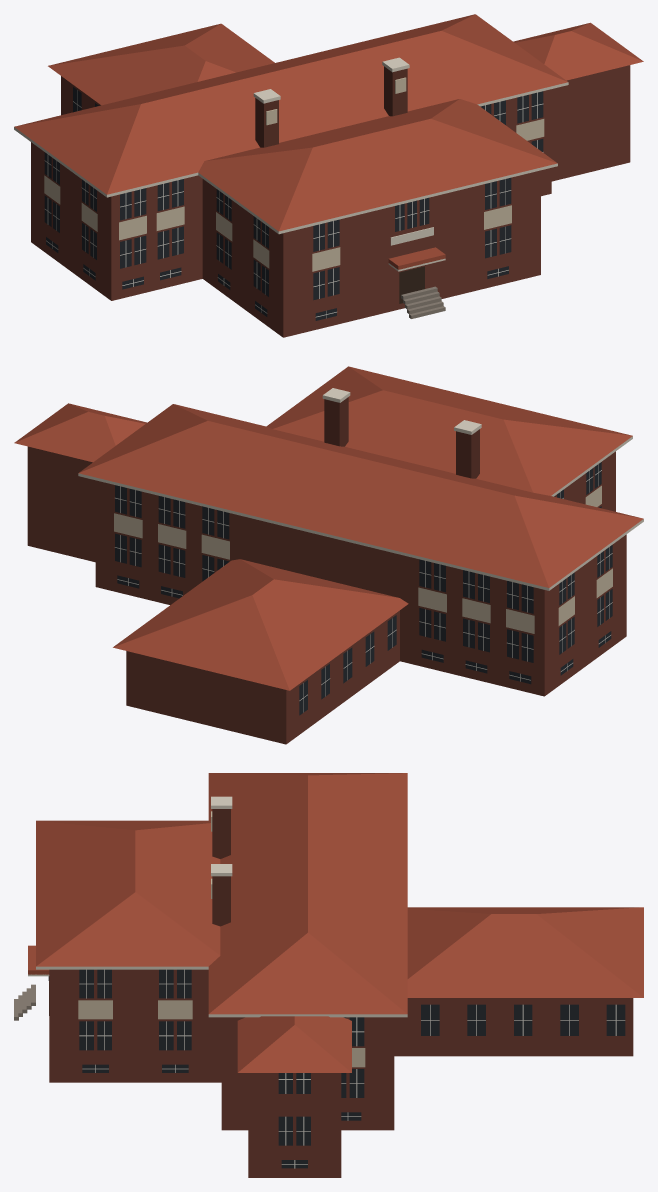
The model's file is woodruff-school-1913.glb.
The picture shows the model from 3 angles, top to bottom: view 1: azimuth 30°, elevation 25°; view 2: azimuth 150°, elevation 25°; view 3: azimuth 270°, elevation 25°; orthographic projection. The views are drawn at different scales.
Visible parts, largest first — view 1: woodruff_tile, woodruff_brick, woodruff_glass, woodruff_panel, woodruff_trim, woodruff_sash, woodruff_brick2, woodruff_base, woodruff_door; view 2: woodruff_tile, woodruff_brick, woodruff_glass, woodruff_panel, woodruff_trim, woodruff_brick2, woodruff_sash; view 3: woodruff_tile, woodruff_brick, woodruff_glass, woodruff_trim, woodruff_brick2, woodruff_panel, woodruff_sash.
Part boxes in pixels (<box>): woodruff_tile: <box>14,14,643,269</box>; woodruff_brick: <box>31,65,630,337</box>; woodruff_glass: <box>44,87,543,320</box>; woodruff_panel: <box>44,77,544,271</box>; woodruff_trim: <box>14,57,568,271</box>; woodruff_sash: <box>44,90,543,318</box>; woodruff_brick2: <box>255,66,407,147</box>; woodruff_base: <box>401,286,445,318</box>; woodruff_door: <box>399,266,424,303</box>; woodruff_tile: <box>14,366,643,690</box>; woodruff_brick: <box>27,446,626,744</box>; woodruff_glass: <box>115,462,612,715</box>; woodruff_panel: <box>114,485,612,633</box>; woodruff_trim: <box>78,388,643,590</box>; woodruff_brick2: <box>324,397,479,478</box>; woodruff_sash: <box>114,464,612,712</box>; woodruff_tile: <box>28,773,643,1072</box>; woodruff_brick: <box>49,969,633,1177</box>; woodruff_glass: <box>48,969,625,1168</box>; woodruff_trim: <box>28,796,407,1017</box>; woodruff_brick2: <box>212,809,230,926</box>; woodruff_panel: <box>78,811,365,1067</box>; woodruff_sash: <box>79,969,625,1168</box>.
Bounding box in the file's own units: 51.3 × 15 × 47.45.
